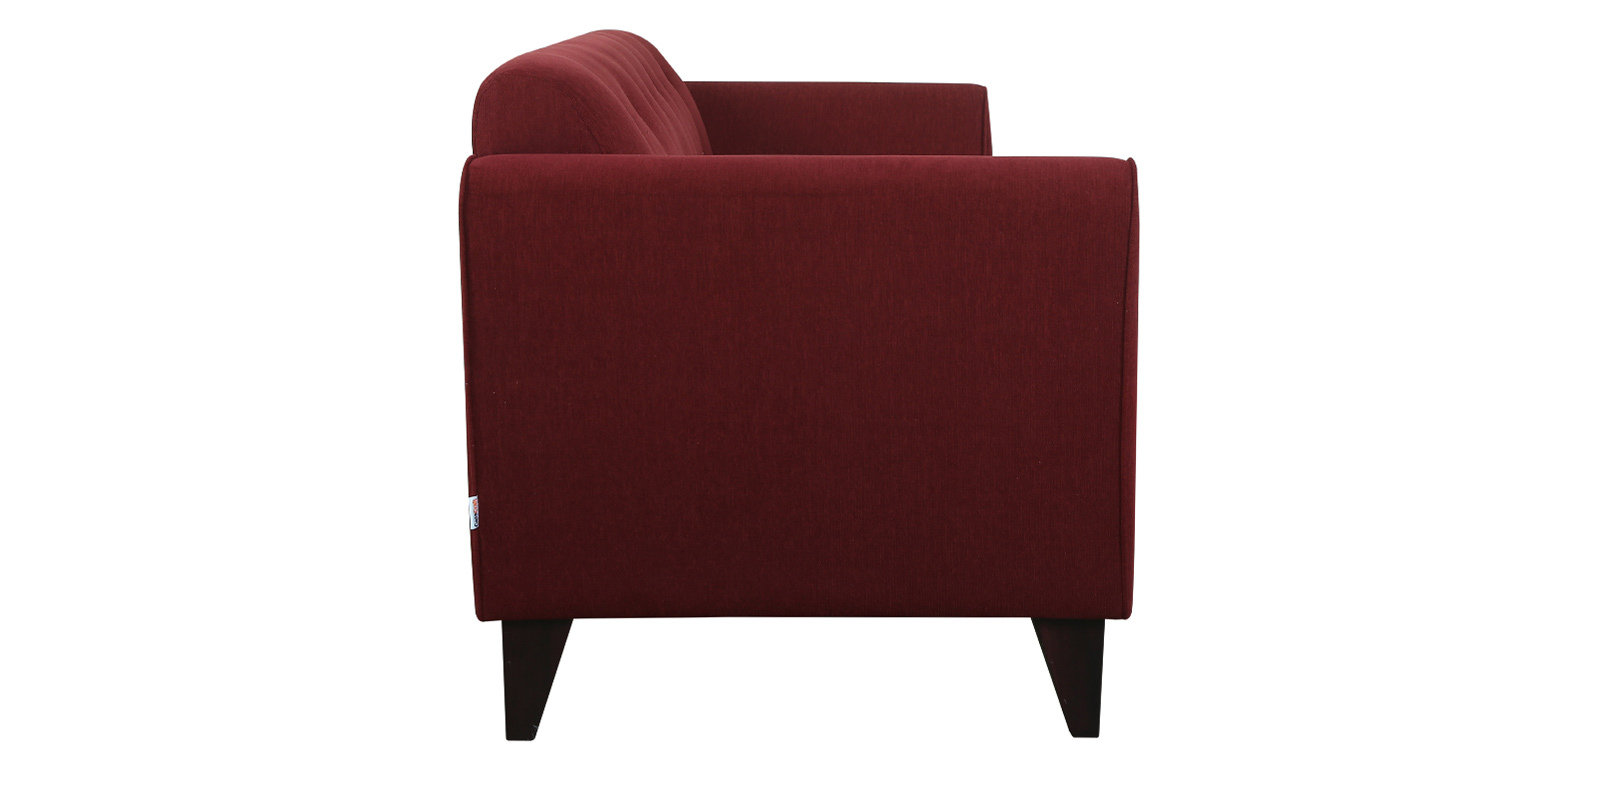Belem Three Seater Sofa in Garnet Red Color by CasaCraft: (412, 15, 1162, 682)
